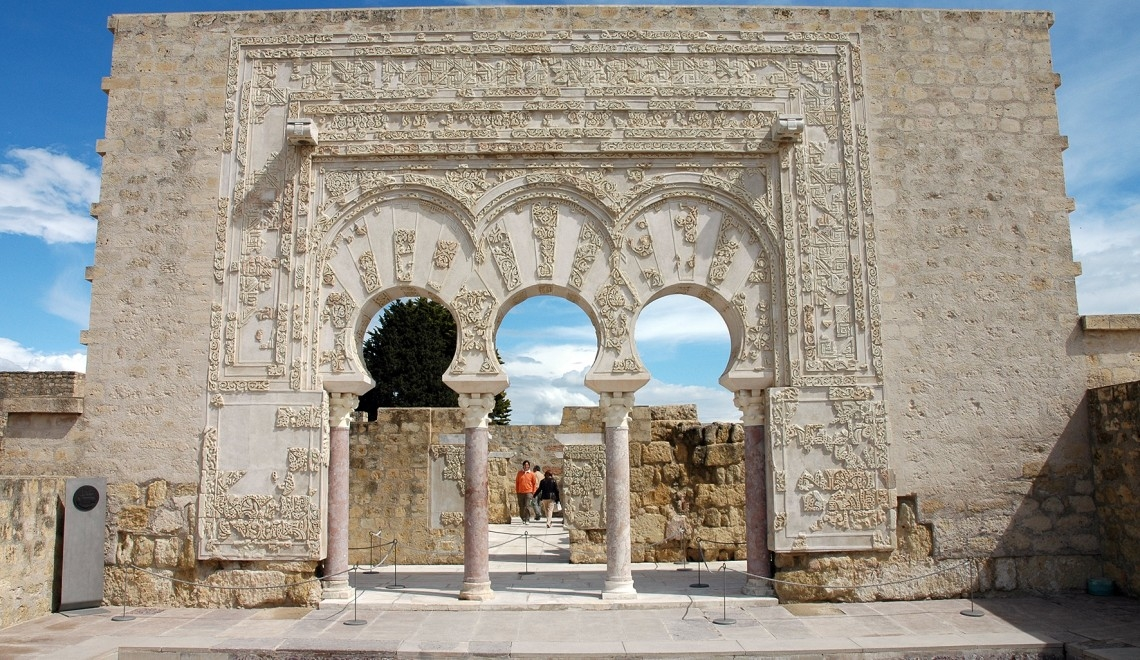arco-herradura: (477, 276, 619, 437), (615, 277, 757, 437), (334, 281, 479, 435)
